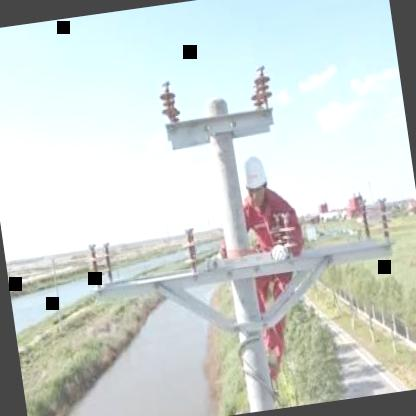helmet: (238, 149, 274, 207)
